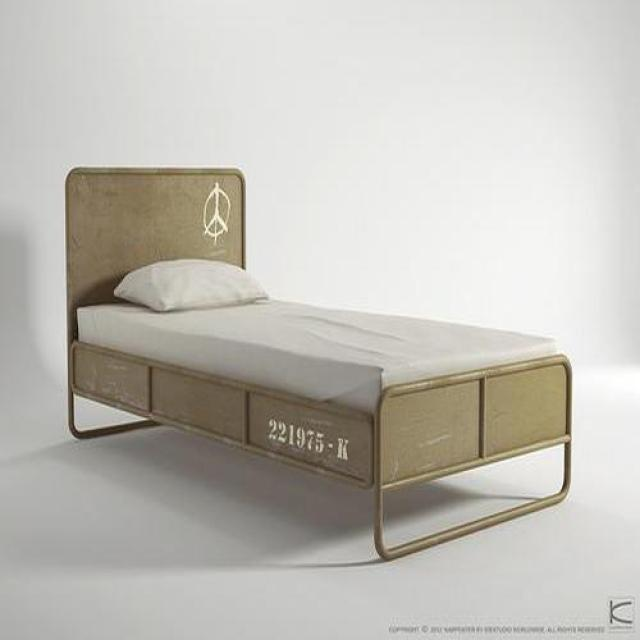bed: (67, 166, 576, 562)
